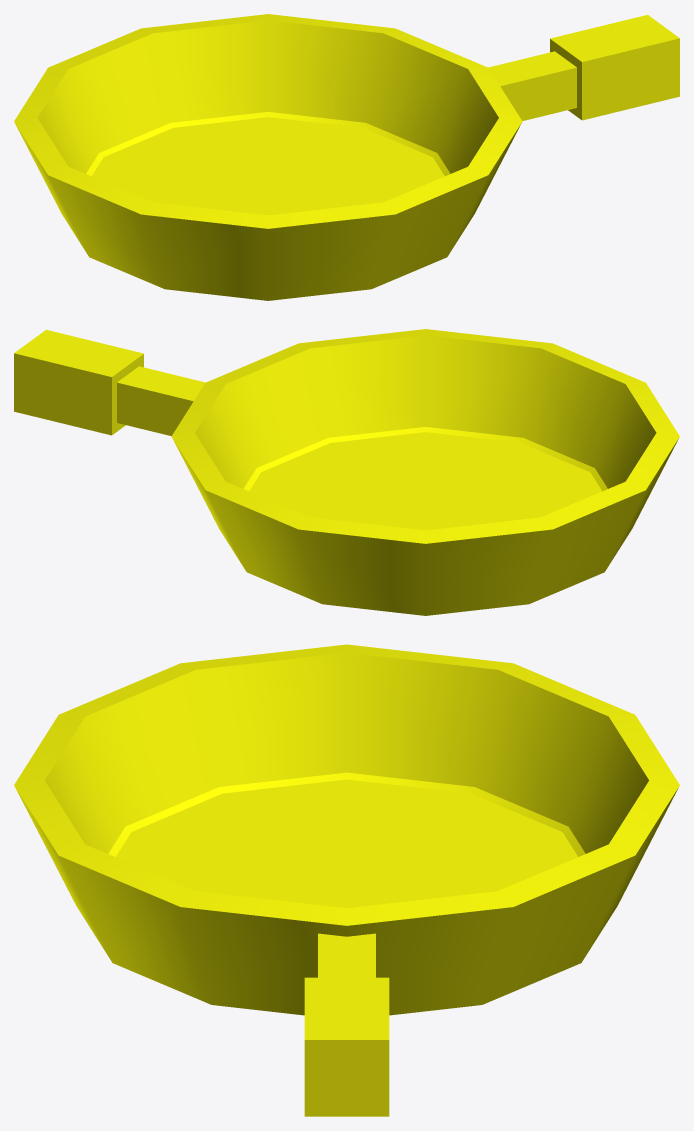
File: Pan.gltf
3 renders of one model, top to bottom at view 1: azimuth 30°, elevation 25°; view 2: azimuth 150°, elevation 25°; view 3: azimuth 270°, elevation 25°, orthographic. The views are drawn at different scales.
Parts seen in each view (by area): view 1: Chao; view 2: Chao; view 3: Chao.
Boxes of the visible parts, <box> form: Chao: <box>14,14,679,300</box>; Chao: <box>14,329,679,615</box>; Chao: <box>14,644,679,1116</box>.
Bounding box in the file's own units: 2.46 × 0.3661 × 1.76.
Materials: 1 (1 with a texture image).
